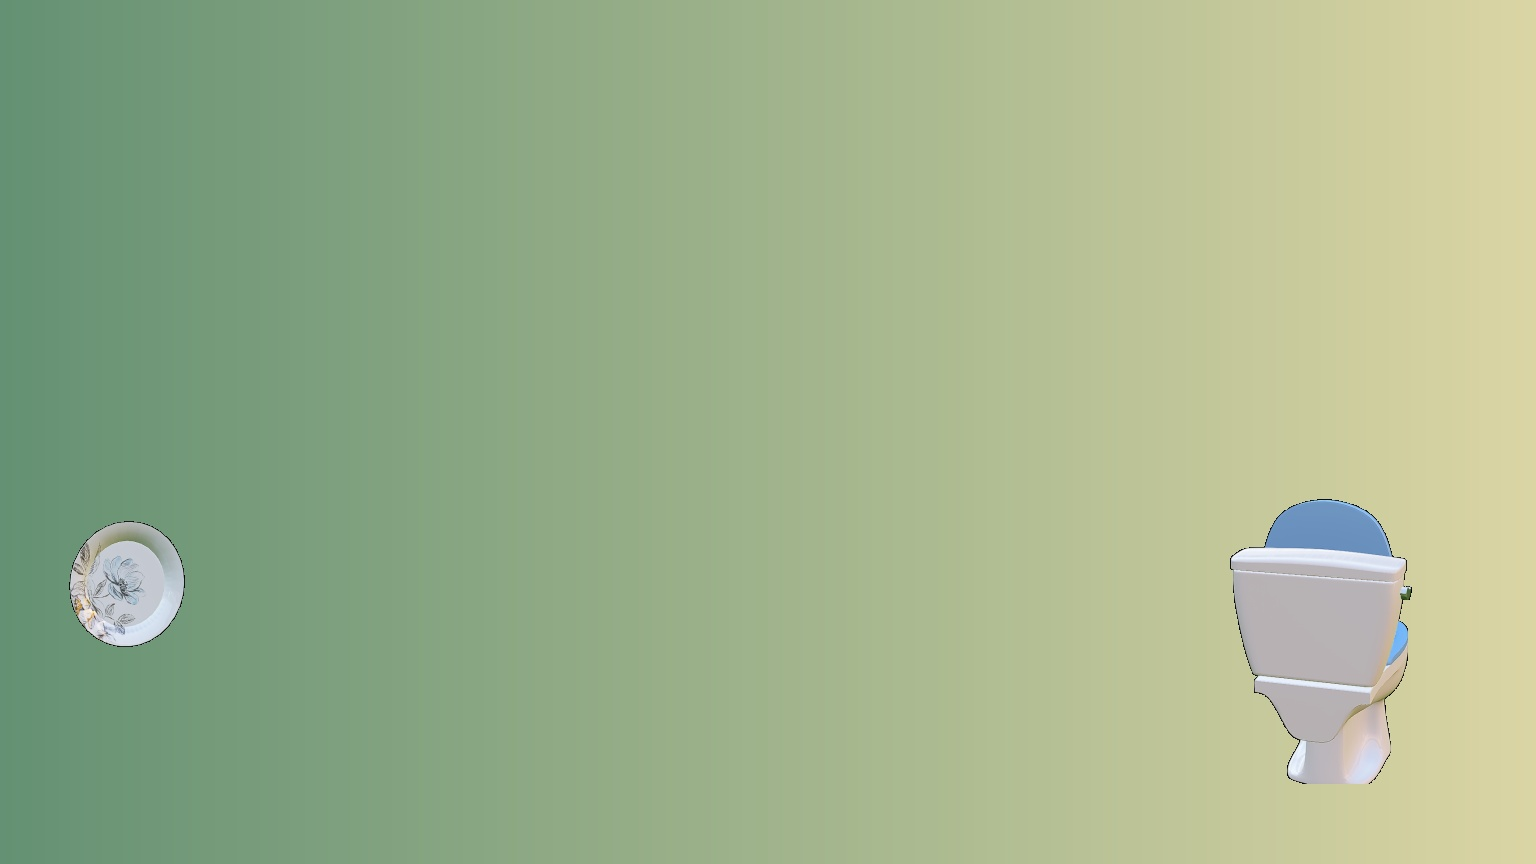plato: (69, 521, 185, 647)
retrete: (1230, 499, 1412, 784)
